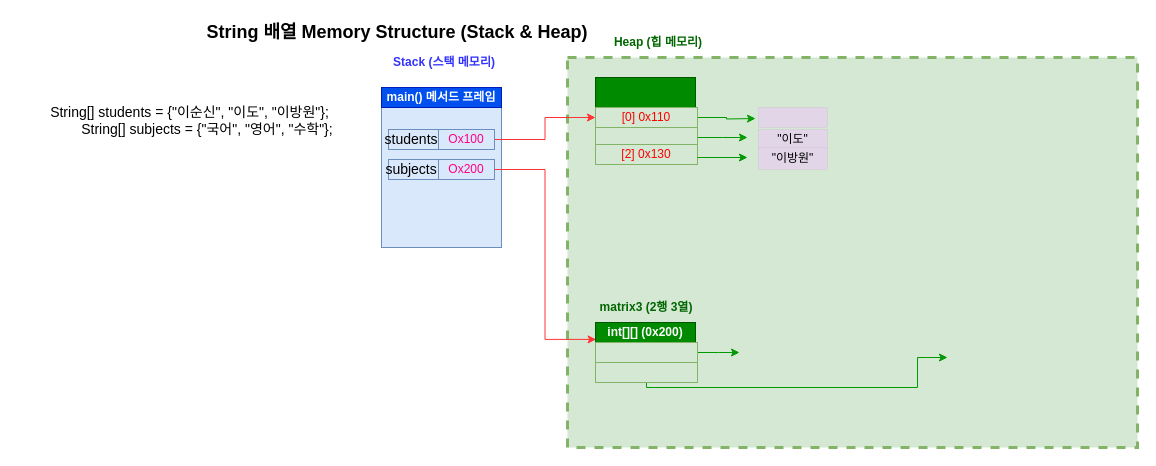
The diagram is 1156 pixels wide and 466 high, and some of its shapes have lost their labels. Here are the shapes that lost their labels. From the top down, the centre of each, then its label:
(x=645, y=92): students배열 (0x100)
(x=646, y=137): [1] 0x120
(x=792, y=117): "이순신"
(x=646, y=352): [0] 0x210
(x=646, y=372): [1] 0x220
